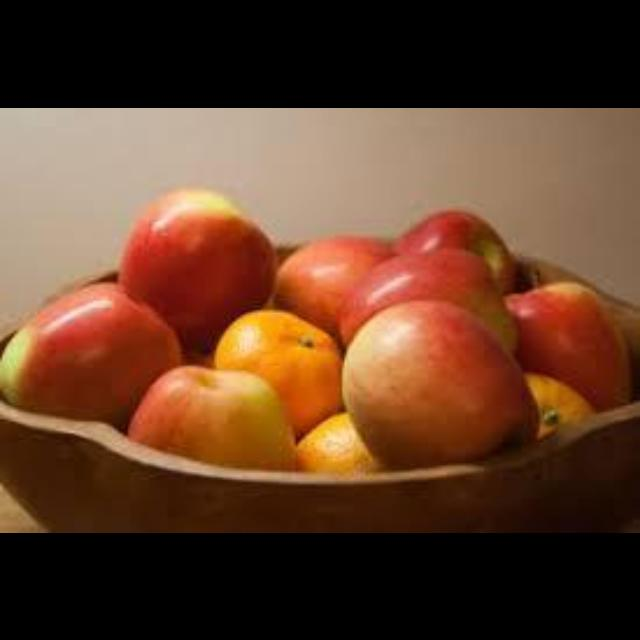apple: (344, 300, 535, 468), (0, 282, 179, 426), (119, 188, 272, 349), (340, 247, 514, 349), (128, 365, 293, 465), (507, 282, 631, 407), (275, 235, 391, 337), (393, 209, 514, 291)
